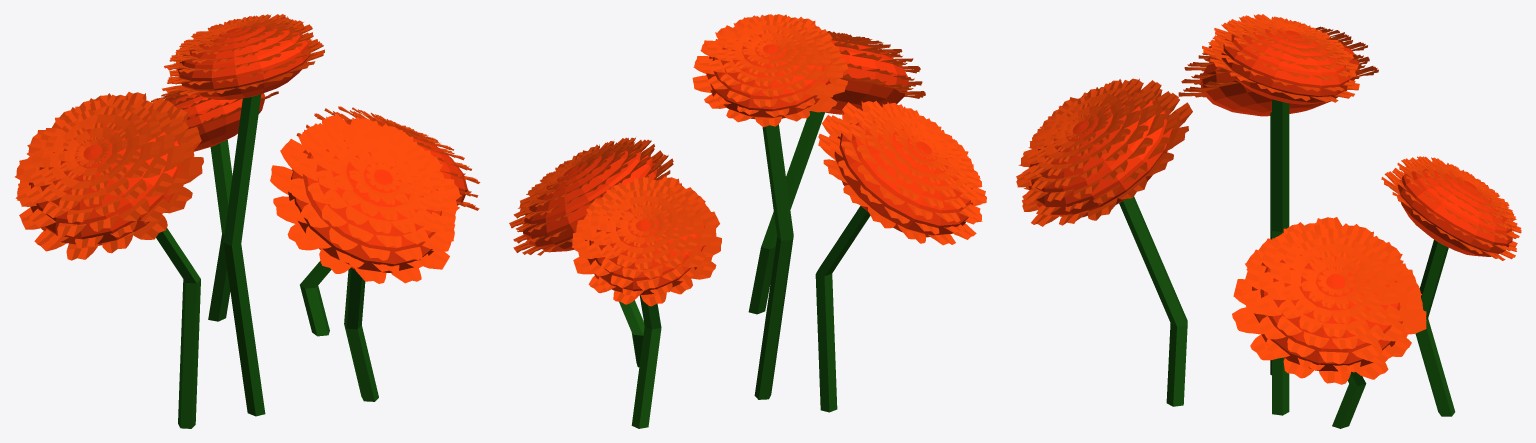
The model's file is FlorCamino.obj.
3 views of the same model, side by side, from view 1: azimuth 30°, elevation 25°; view 2: azimuth 150°, elevation 25°; view 3: azimuth 270°, elevation 25° (orthographic). The views are drawn at different scales.
Visible parts, largest first — view 1: Plano.007, Plano.009, Plano.012, Cilindro.001, Cilindro.003, Plano.008, Cilindro.005, Cilindro.002, Plano.011, Cilindro.004; view 2: Plano.009, Plano.008, Plano.012, Plano.011, Cilindro.001, Plano.007, Cilindro.003, Cilindro.002, Cilindro.005, Cilindro.004; view 3: Plano.011, Plano.007, Plano.012, Plano.008, Plano.009, Cilindro.002, Cilindro.001, Cilindro.005, Cilindro.004.
Boxes of the visible parts, <box> form: Plano.007: <box>270,114,461,283</box>; Plano.009: <box>15,92,203,260</box>; Plano.012: <box>162,14,324,99</box>; Cilindro.001: <box>223,94,265,416</box>; Cilindro.003: <box>156,228,200,428</box>; Plano.008: <box>151,90,278,151</box>; Cilindro.005: <box>208,139,232,321</box>; Cilindro.002: <box>344,268,378,401</box>; Plano.011: <box>296,106,480,210</box>; Cilindro.004: <box>300,261,331,336</box>; Plano.009: <box>818,101,986,245</box>; Plano.008: <box>572,176,721,306</box>; Plano.012: <box>692,14,848,127</box>; Plano.011: <box>509,137,673,255</box>; Cilindro.001: <box>754,124,793,399</box>; Plano.007: <box>824,31,925,114</box>; Cilindro.003: <box>815,205,870,412</box>; Cilindro.002: <box>748,111,824,314</box>; Cilindro.005: <box>631,295,661,428</box>; Cilindro.004: <box>619,300,644,367</box>; Plano.011: <box>1232,217,1426,384</box>; Plano.007: <box>1016,78,1192,226</box>; Plano.012: <box>1202,14,1359,104</box>; Plano.008: <box>1381,156,1521,260</box>; Plano.009: <box>1178,26,1378,116</box>; Cilindro.002: <box>1119,196,1187,406</box>; Cilindro.001: <box>1272,99,1289,415</box>; Cilindro.005: <box>1415,239,1455,416</box>; Cilindro.004: <box>1332,372,1366,428</box>.
Bounding box in the file's own units: 1.5 × 1.23 × 1.47.
